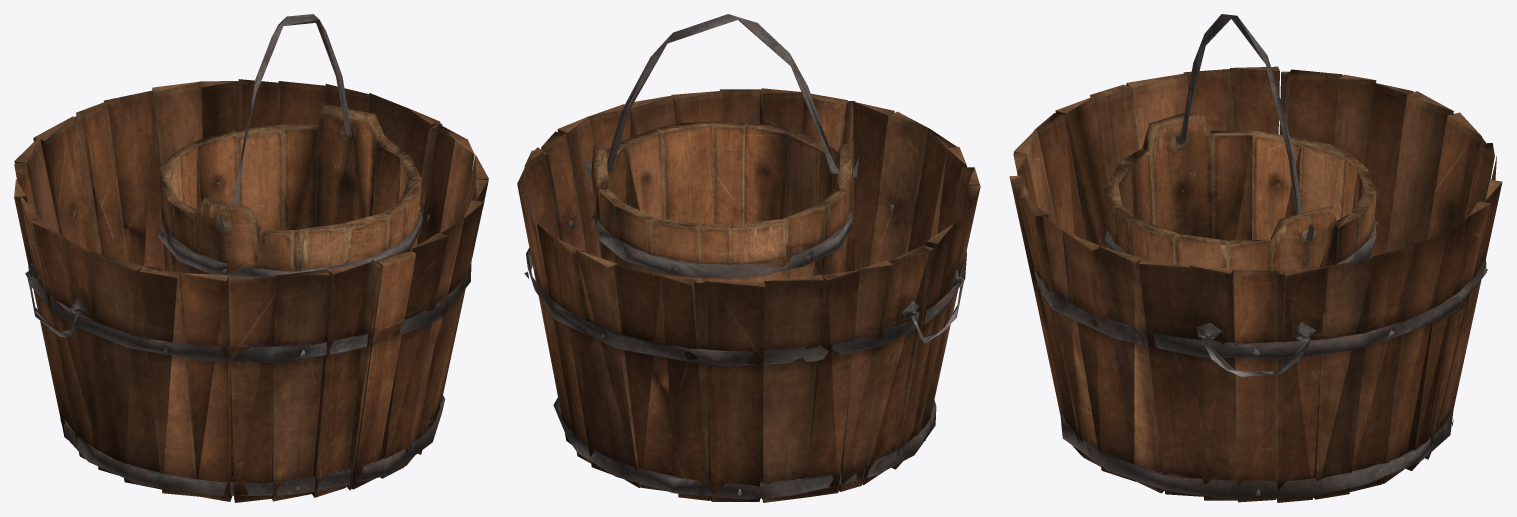
Rendered from Buckets.glb.
The picture shows the model from 3 angles, left to right: view 1: azimuth 30°, elevation 25°; view 2: azimuth 150°, elevation 25°; view 3: azimuth 270°, elevation 25°; orthographic projection. The views are drawn at different scales.
Visible parts, largest first — view 1: Buckets; view 2: Buckets; view 3: Buckets.
Boxes of the visible parts, x1=… form: Buckets: x1=14, y1=14, x2=488, y2=502; Buckets: x1=517, y1=14, x2=980, y2=502; Buckets: x1=1009, y1=14, x2=1502, y2=502.
Bounding box in the file's own units: 0.614 × 0.5817 × 0.616.
Materials: 2 (2 with a texture image).
